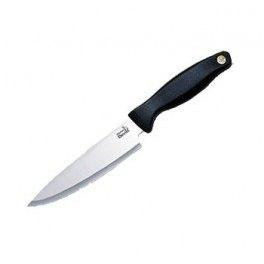Knife: (26, 49, 232, 207)
